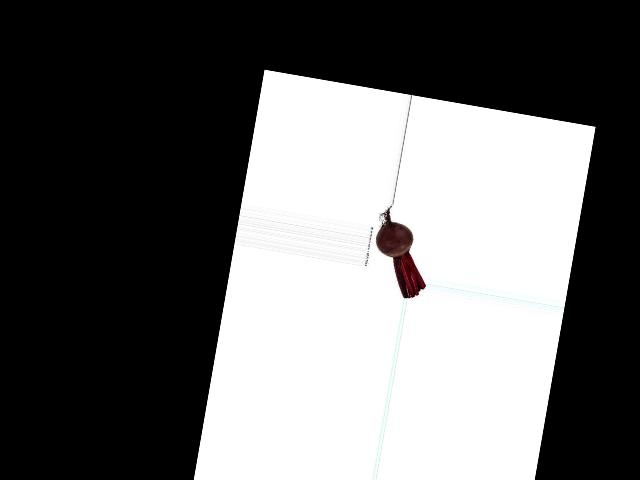beet: (366, 204, 437, 301)
